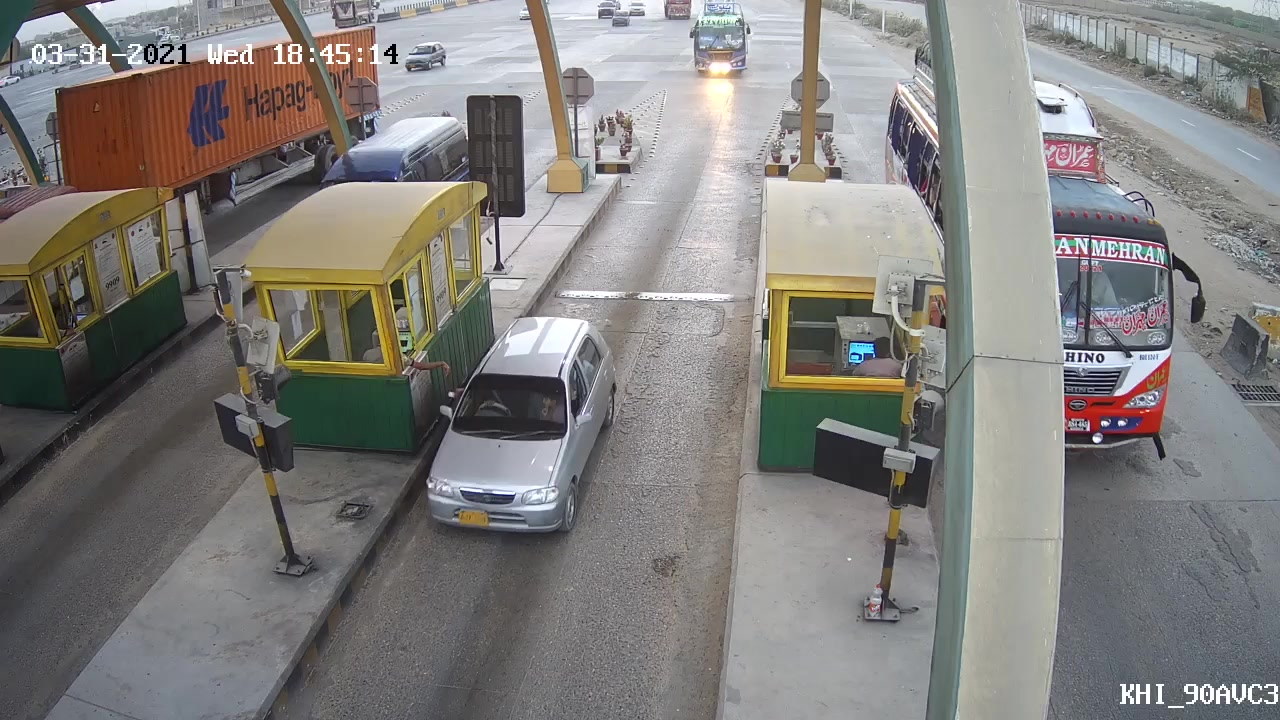F1: (422, 308, 625, 547)
